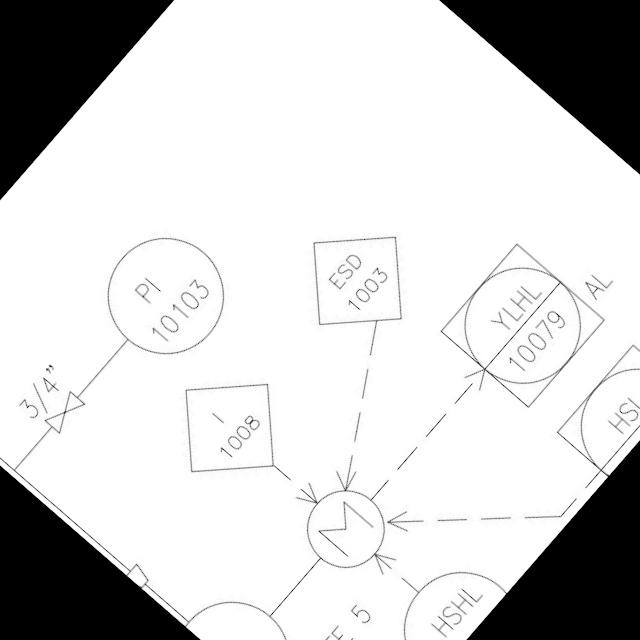GV: (37, 385, 90, 440)
M: (288, 472, 404, 588)
